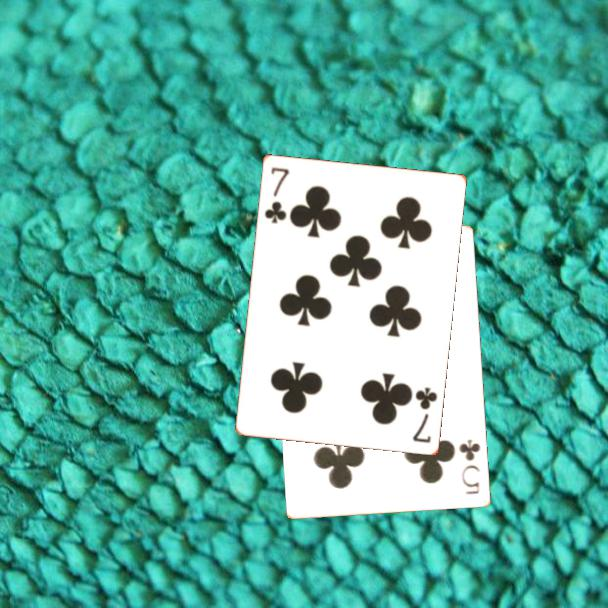c05: (456, 436, 483, 498)
c07: (261, 163, 292, 226), (409, 383, 440, 446)
